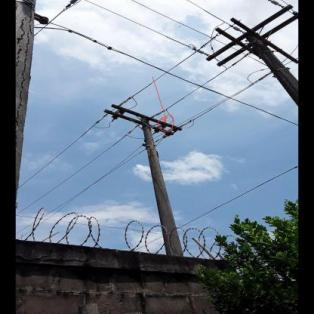Poste: (138, 114, 183, 259)
